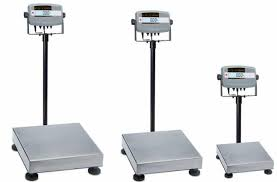Industrial Scale: (10, 2, 104, 182), (121, 9, 204, 181), (216, 65, 275, 180)
